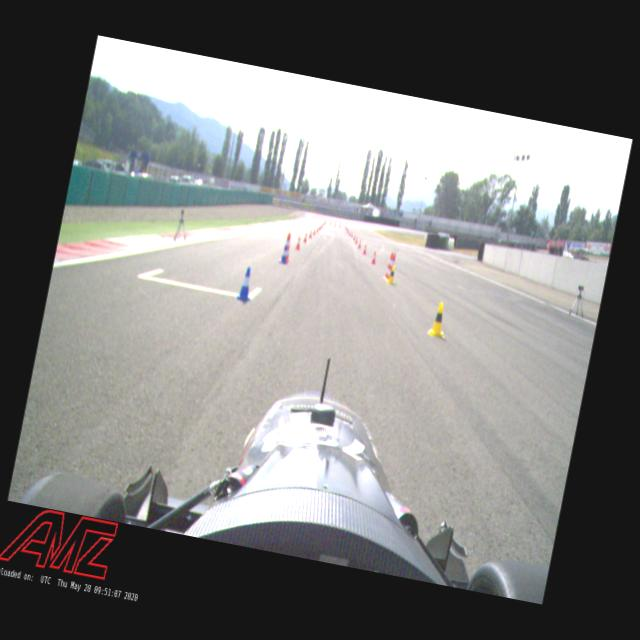blue_cone: (235, 266, 256, 304), (278, 245, 290, 265)
large_orange_cone: (278, 232, 294, 264), (382, 252, 397, 282), (386, 252, 400, 282), (338, 222, 342, 228), (329, 220, 332, 227), (334, 220, 337, 227), (324, 218, 326, 224), (344, 224, 346, 228)
orange_cone: (370, 250, 378, 264), (294, 237, 302, 250), (362, 243, 368, 256), (302, 232, 308, 244), (308, 230, 313, 238), (358, 240, 362, 250), (354, 236, 359, 244), (352, 233, 357, 240), (312, 228, 316, 236), (316, 226, 320, 233), (318, 224, 322, 230), (350, 232, 354, 238), (348, 230, 352, 236), (346, 228, 349, 233), (320, 224, 322, 228), (322, 223, 324, 227), (346, 227, 348, 230)
yellow_cone: (427, 297, 452, 340), (386, 264, 398, 286)
